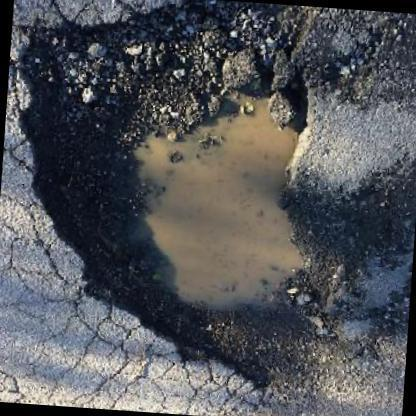pothole: (16, 5, 376, 399)
